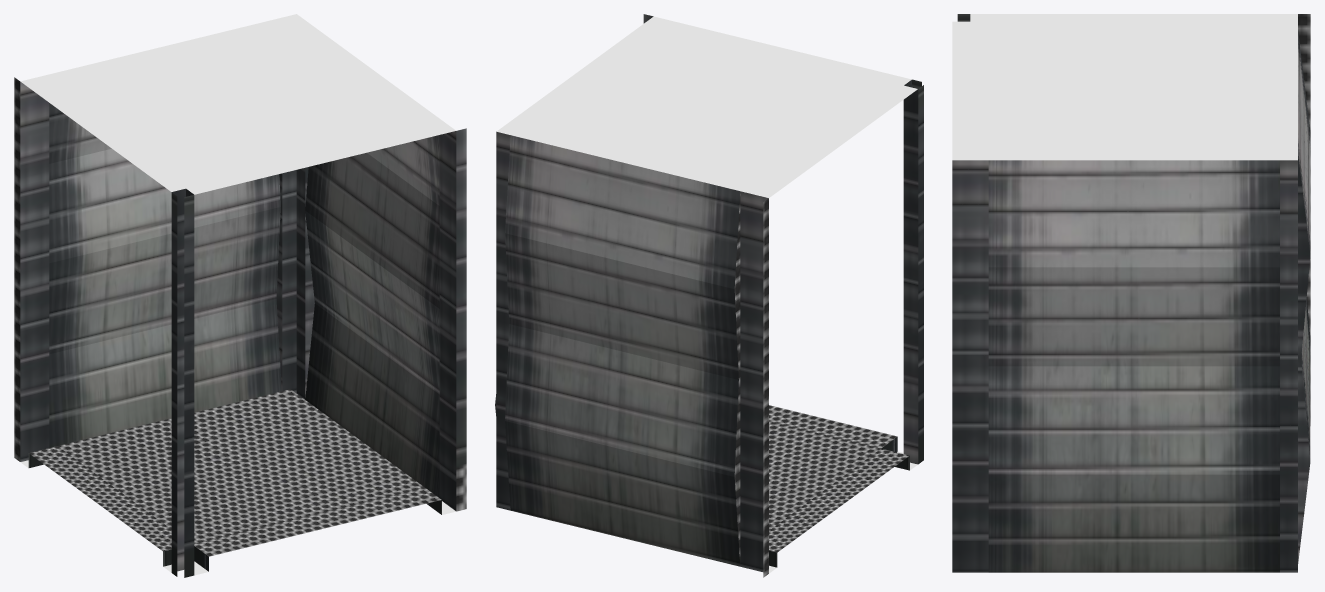
File: Small_Corner_Hallway.fbx
The picture shows the model from 3 angles, left to right: view 1: azimuth 30°, elevation 25°; view 2: azimuth 150°, elevation 25°; view 3: azimuth 270°, elevation 25°; orthographic projection. The views are drawn at different scales.
Visible parts, largest first — view 1: Hallway_Corner; view 2: Hallway_Corner; view 3: Hallway_Corner.
Part boxes in pixels (x1,y1,x2,y2): Hallway_Corner: (14,14,466,577); Hallway_Corner: (495,14,923,577); Hallway_Corner: (952,14,1310,572).
Size of the model in its own units: 246 by 313 by 246.
